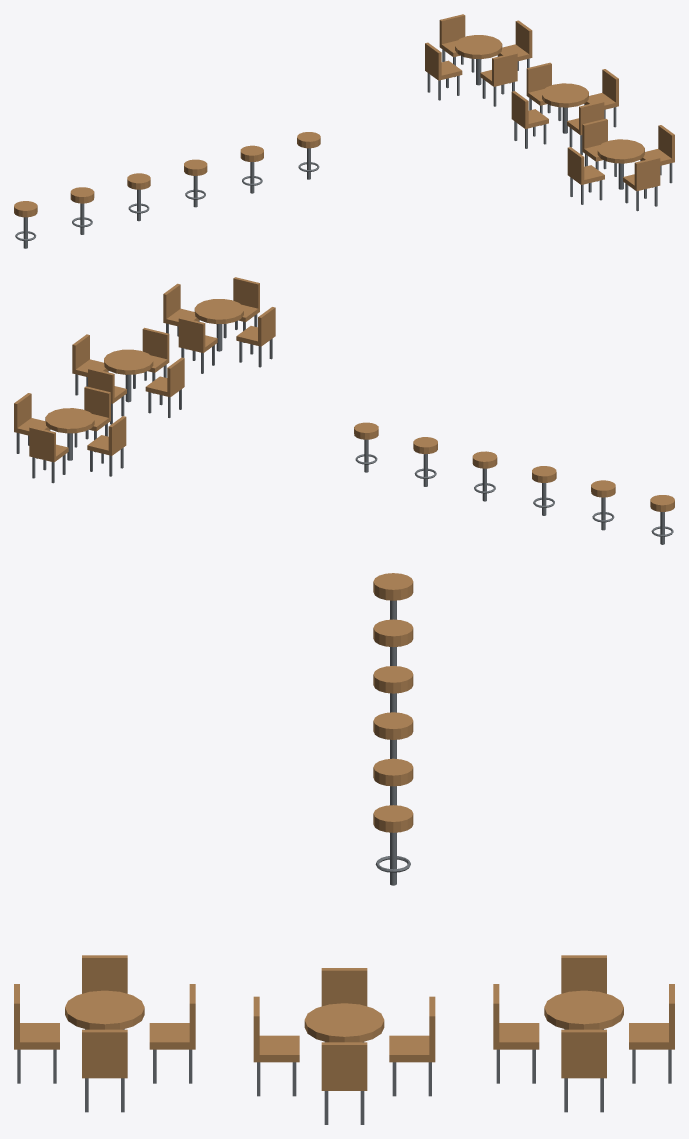
Rendered from bar_furniture.glb.
3 renders of one model, top to bottom at view 1: azimuth 30°, elevation 25°; view 2: azimuth 150°, elevation 25°; view 3: azimuth 270°, elevation 25°, orthographic. The views are drawn at different scales.
Parts seen in each view (by area): view 1: lounge_table_3_top, lounge_table_1_top, lounge_table_2_top, lounge_chair_9_back, lounge_chair_2_back, lounge_chair_1_back, lounge_chair_6_back, lounge_chair_10_back, lounge_chair_5_back, lounge_chair_11_back, lounge_chair_7_back, lounge_chair_4_back (+7 smaller); view 2: lounge_table_1_top, lounge_table_2_top, lounge_table_3_top, lounge_chair_10_back, lounge_chair_2_back, lounge_chair_5_back, lounge_chair_9_back, lounge_chair_1_back, lounge_chair_6_back, lounge_chair_3_back, lounge_chair_11_back, lounge_chair_7_back (+4 smaller); view 3: lounge_table_2_top, lounge_table_1_top, lounge_table_3_top, lounge_chair_8_back, lounge_chair_12_back, lounge_chair_4_back, lounge_chair_7_back, lounge_chair_11_back, lounge_chair_3_back, lounge_chair_5_seat, lounge_chair_6_seat, lounge_chair_10_seat (+9 smaller).
Part boxes in pixels (bbox=[...]): lounge_table_3_top: bbox=[597, 139, 644, 163]; lounge_table_1_top: bbox=[455, 35, 502, 59]; lounge_table_2_top: bbox=[542, 83, 588, 107]; lounge_chair_9_back: bbox=[634, 157, 660, 187]; lounge_chair_2_back: bbox=[439, 14, 465, 44]; lounge_chair_1_back: bbox=[492, 52, 517, 82]; lounge_chair_6_back: bbox=[526, 62, 551, 92]; lounge_chair_10_back: bbox=[582, 118, 607, 148]; lounge_chair_5_back: bbox=[579, 101, 604, 131]; lounge_chair_11_back: bbox=[567, 147, 584, 181]; lounge_chair_7_back: bbox=[511, 91, 528, 125]; lounge_chair_4_back: bbox=[515, 20, 532, 54]; lounge_table_1_top: bbox=[45, 408, 94, 433]; lounge_table_2_top: bbox=[104, 349, 153, 374]; lounge_table_3_top: bbox=[194, 299, 243, 324]; lounge_chair_10_back: bbox=[178, 317, 205, 349]; lounge_chair_2_back: bbox=[29, 426, 55, 458]; lounge_chair_5_back: bbox=[142, 327, 169, 359]; lounge_chair_9_back: bbox=[233, 277, 259, 308]; lounge_chair_1_back: bbox=[84, 386, 110, 417]; lounge_chair_6_back: bbox=[88, 368, 114, 399]; lounge_chair_3_back: bbox=[108, 416, 126, 451]; lounge_chair_11_back: bbox=[258, 307, 275, 342]; lounge_chair_7_back: bbox=[167, 357, 184, 393]; lounge_table_2_top: bbox=[304, 1003, 384, 1042]; lounge_table_1_top: bbox=[544, 990, 623, 1029]; lounge_table_3_top: bbox=[65, 990, 144, 1029]; lounge_chair_8_back: bbox=[321, 1042, 367, 1084]; lounge_chair_12_back: bbox=[82, 1029, 127, 1071]; lounge_chair_4_back: bbox=[561, 1029, 606, 1071]; lounge_chair_7_back: bbox=[321, 968, 367, 1006]; lounge_chair_11_back: bbox=[82, 955, 127, 993]; lounge_chair_3_back: bbox=[561, 955, 606, 993]; lounge_chair_5_seat: bbox=[253, 1035, 299, 1062]; lounge_chair_6_seat: bbox=[389, 1035, 435, 1062]; lounge_chair_10_seat: bbox=[149, 1023, 195, 1049].
Bounding box in the file's own units: 11.31 × 0.9 × 6.62.
